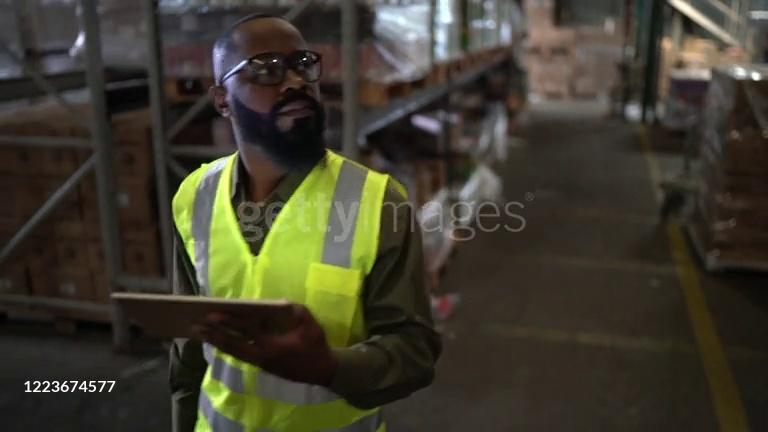person: (166, 14, 442, 432)
